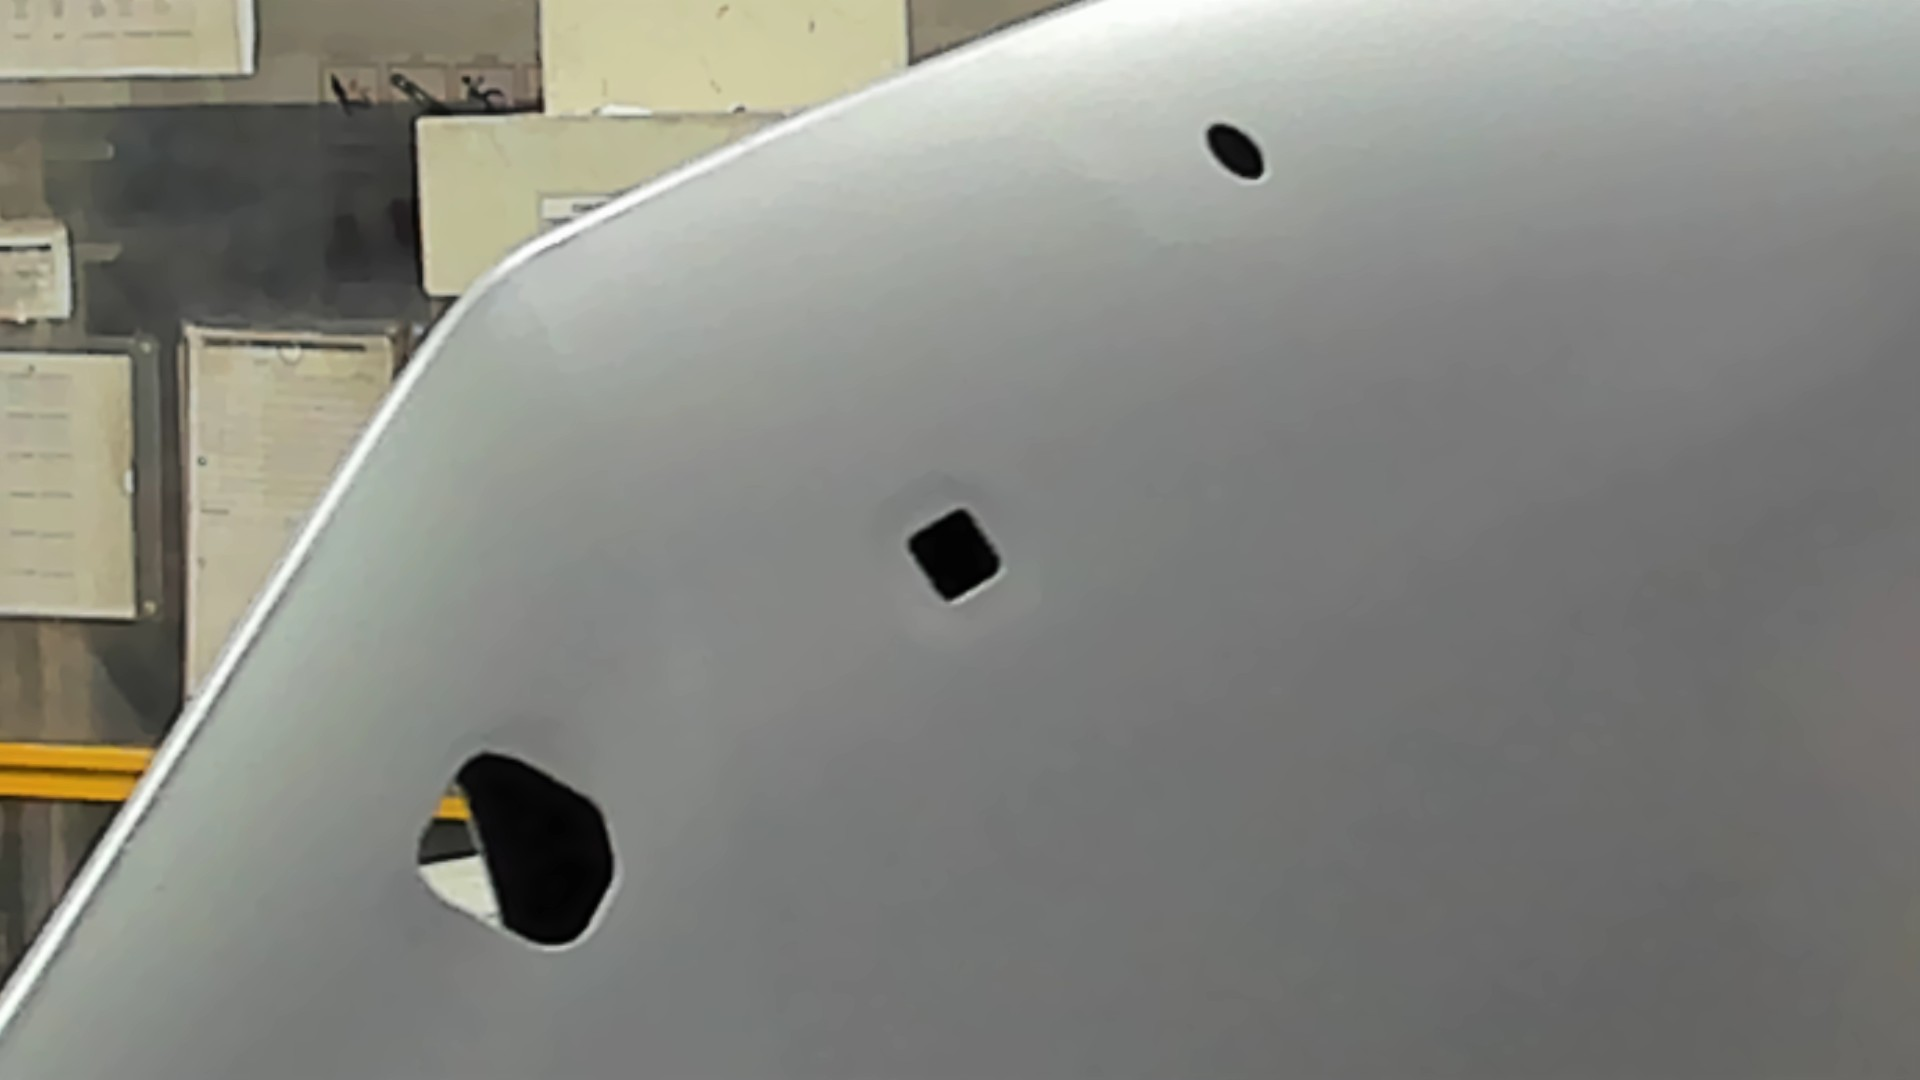chico: (1199, 116, 1269, 182)
grande: (411, 746, 626, 957)
mediano: (902, 497, 1004, 607)
